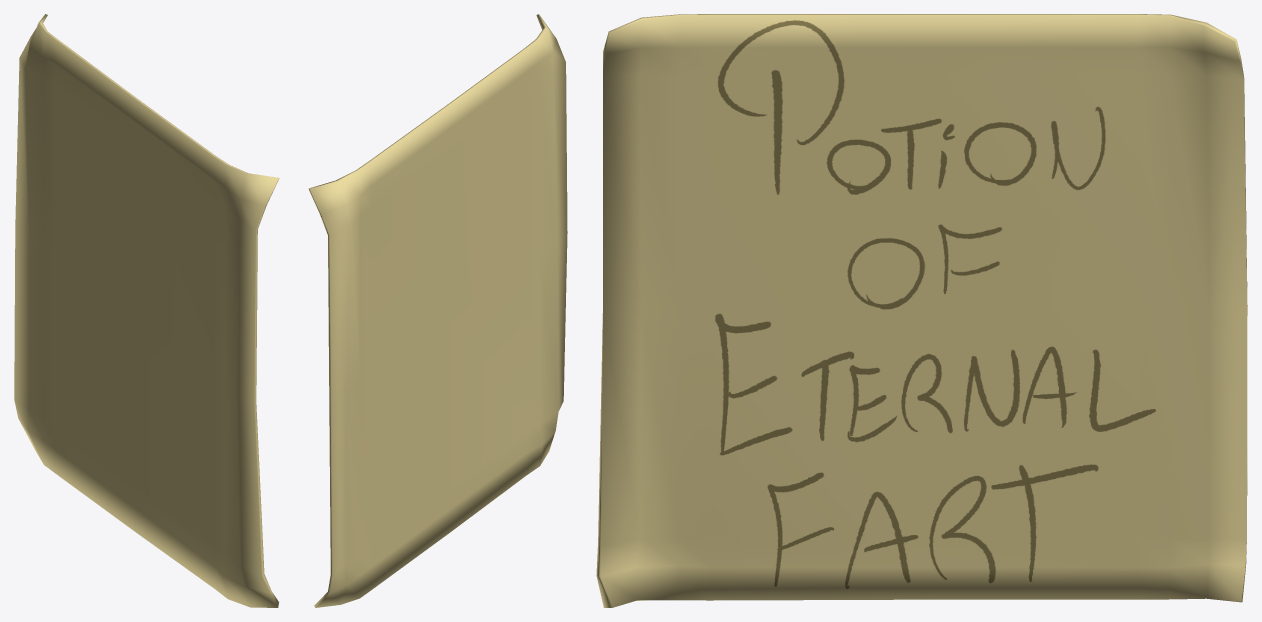
File: papelPotionOfEternalFart.fbx
The picture shows the model from 3 angles, left to right: view 1: azimuth 30°, elevation 25°; view 2: azimuth 150°, elevation 25°; view 3: azimuth 270°, elevation 25°; orthographic projection. The views are drawn at different scales.
Visible parts, largest first — view 1: Papel; view 2: Papel; view 3: Papel.
Part boxes in pixels (x1=…): Papel: x1=14, y1=14, x2=279, y2=607; Papel: x1=309, y1=14, x2=567, y2=607; Papel: x1=596, y1=14, x2=1247, y2=607.
Bounding box in the file's own units: 16.28 × 200 × 202.
